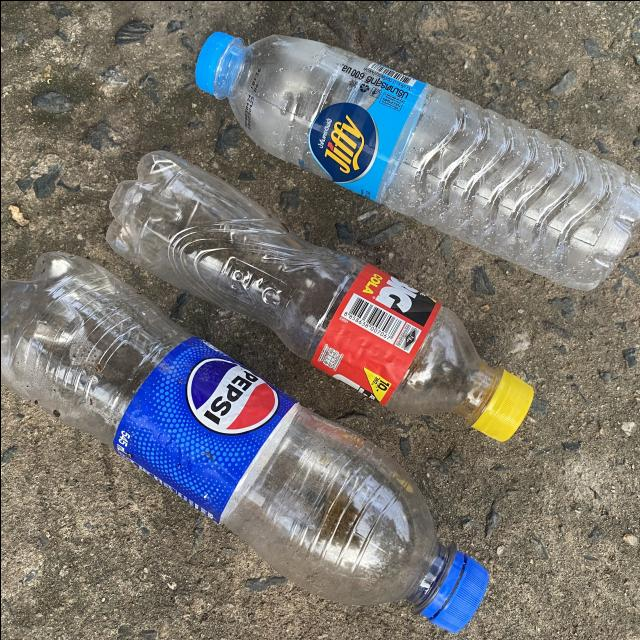plastik: (0, 252, 487, 631), (106, 151, 533, 440), (195, 32, 640, 288)
